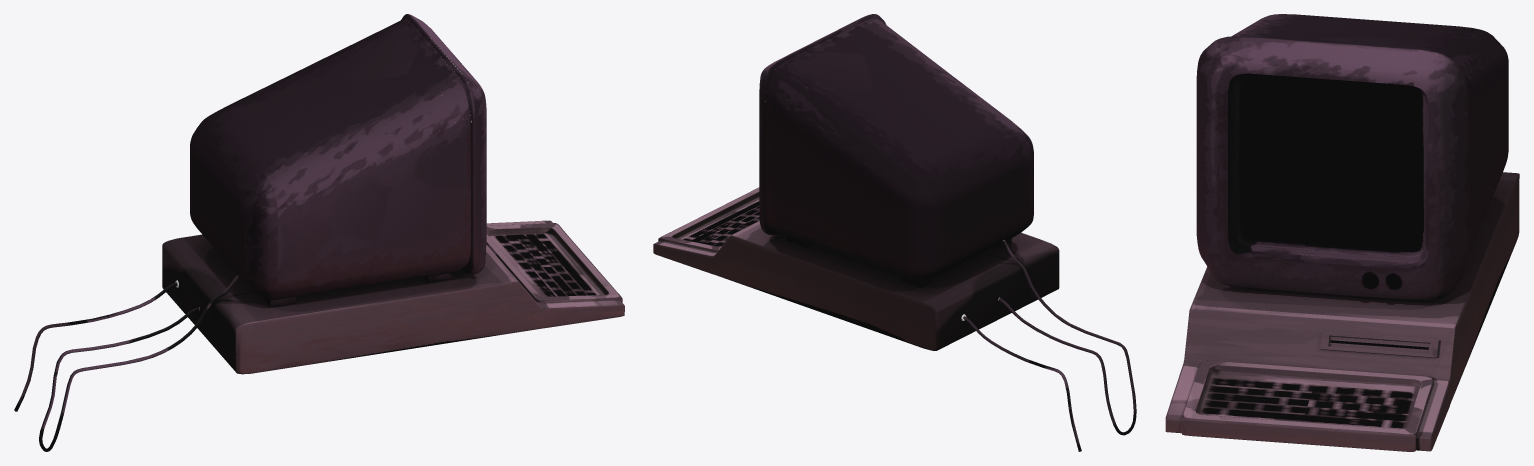
Rendered from pc-DajJVJPh.glb.
The picture shows the model from 3 angles, left to right: view 1: azimuth 30°, elevation 25°; view 2: azimuth 150°, elevation 25°; view 3: azimuth 270°, elevation 25°; orthographic projection. The views are drawn at different scales.
Visible parts, largest first — view 1: monitor, Keyboard, WireConnecter, Wirepower; view 2: monitor, Keyboard, WireConnecter, Wirepower; view 3: monitor, Keyboard.
Boxes of the visible parts, box(x1,y1,x2,y2) form: monitor: box(190, 14, 486, 307); Keyboard: box(162, 220, 624, 374); WireConnecter: box(39, 274, 239, 451); Wirepower: box(14, 282, 177, 411); monitor: box(759, 14, 1033, 288); Keyboard: box(653, 187, 1059, 350); WireConnecter: box(999, 240, 1136, 435); Wirepower: box(963, 316, 1081, 451); monitor: box(1196, 14, 1508, 300); Keyboard: box(1165, 172, 1519, 451).
Bounding box in the file's own units: 1.28 × 0.784 × 0.5974.
6 materials, 3 textured.
